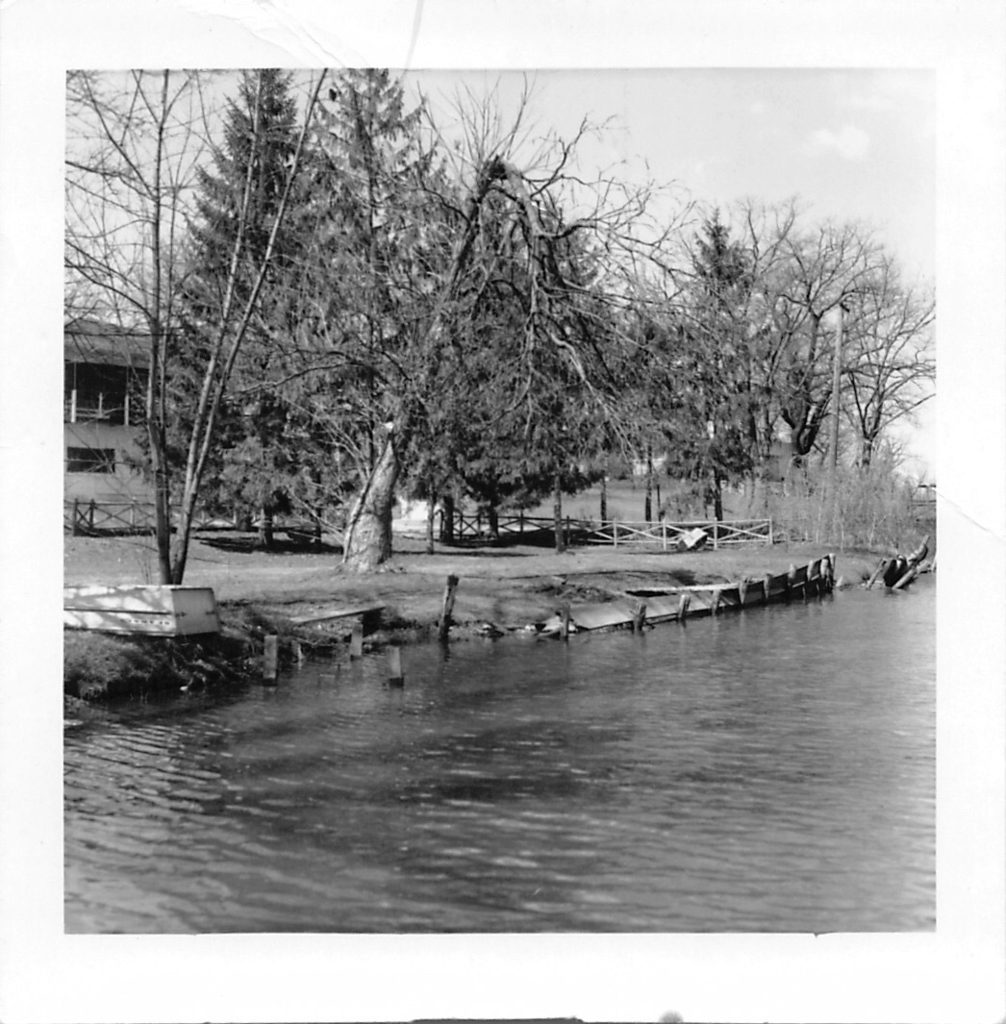Tree: (93, 86, 668, 577), (634, 189, 934, 537)
